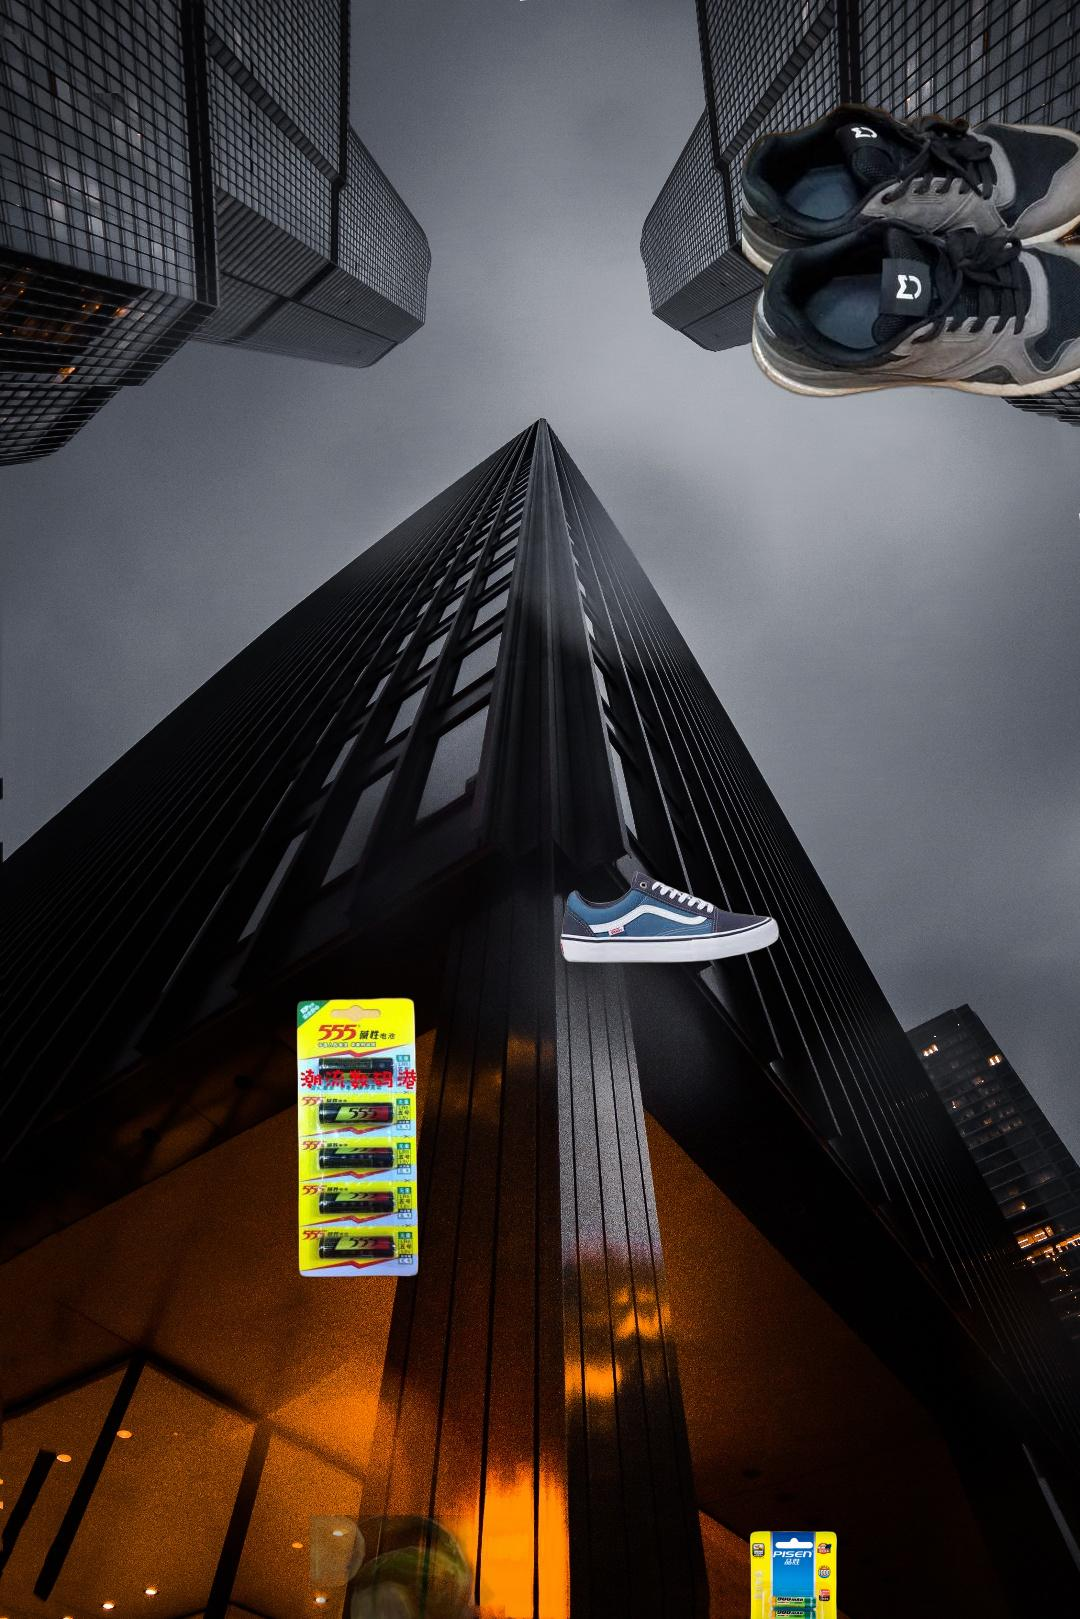battery: (294, 995, 422, 1279), (714, 1529, 873, 1619)
biological: (310, 1515, 931, 1619)
shoes: (742, 96, 1080, 404), (557, 868, 782, 966)
